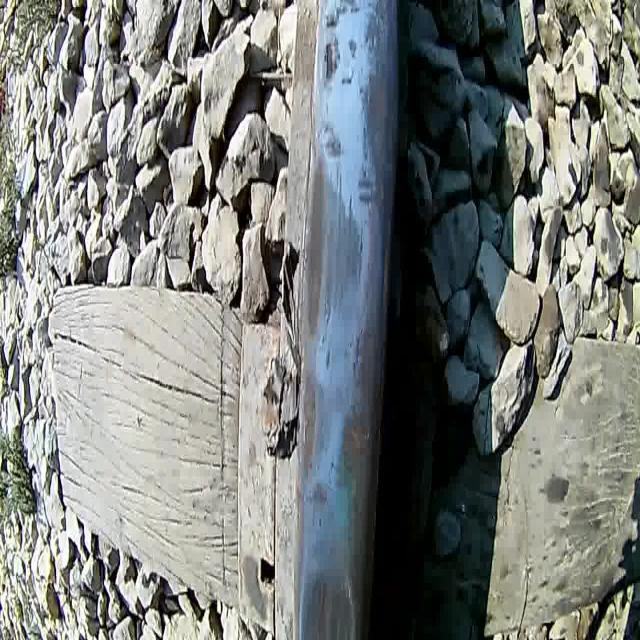Spallings: (321, 33, 342, 86)
Squats: (334, 325, 416, 640), (303, 122, 366, 341), (357, 0, 403, 262), (298, 532, 360, 639), (298, 362, 331, 516), (318, 0, 364, 95)
